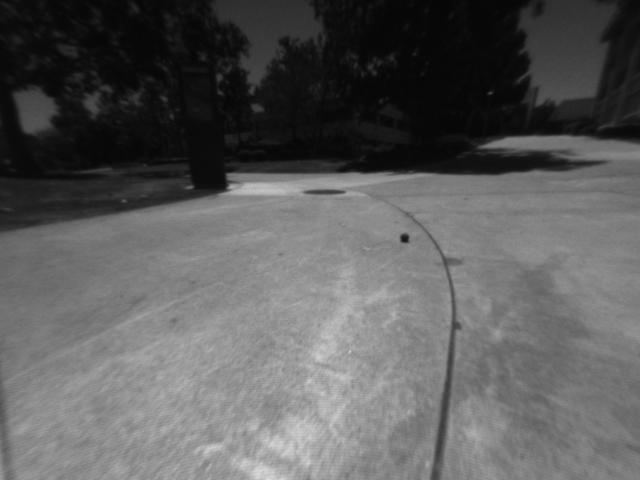dogtoy: (393, 224, 417, 246)
